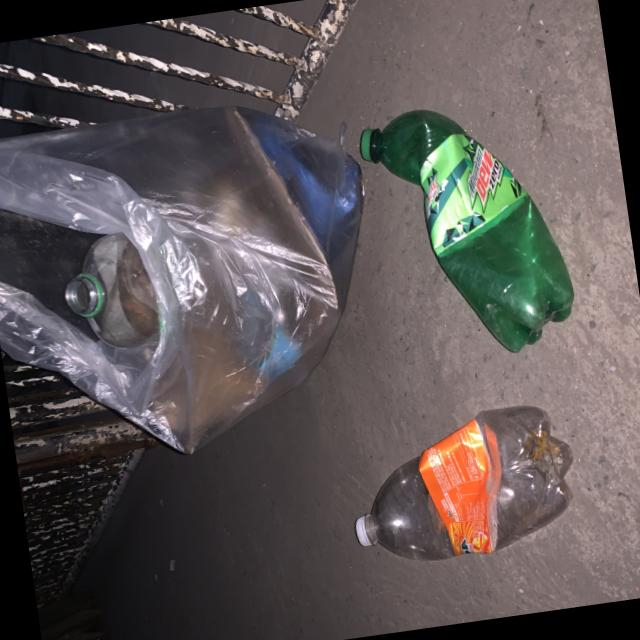Bottle: (360, 109, 574, 351), (356, 405, 572, 560)
